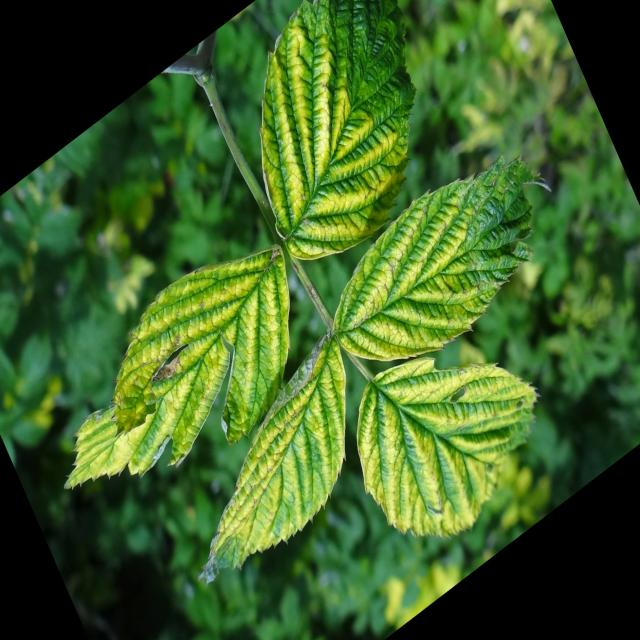Chlorosis: (56, 9, 562, 576)
